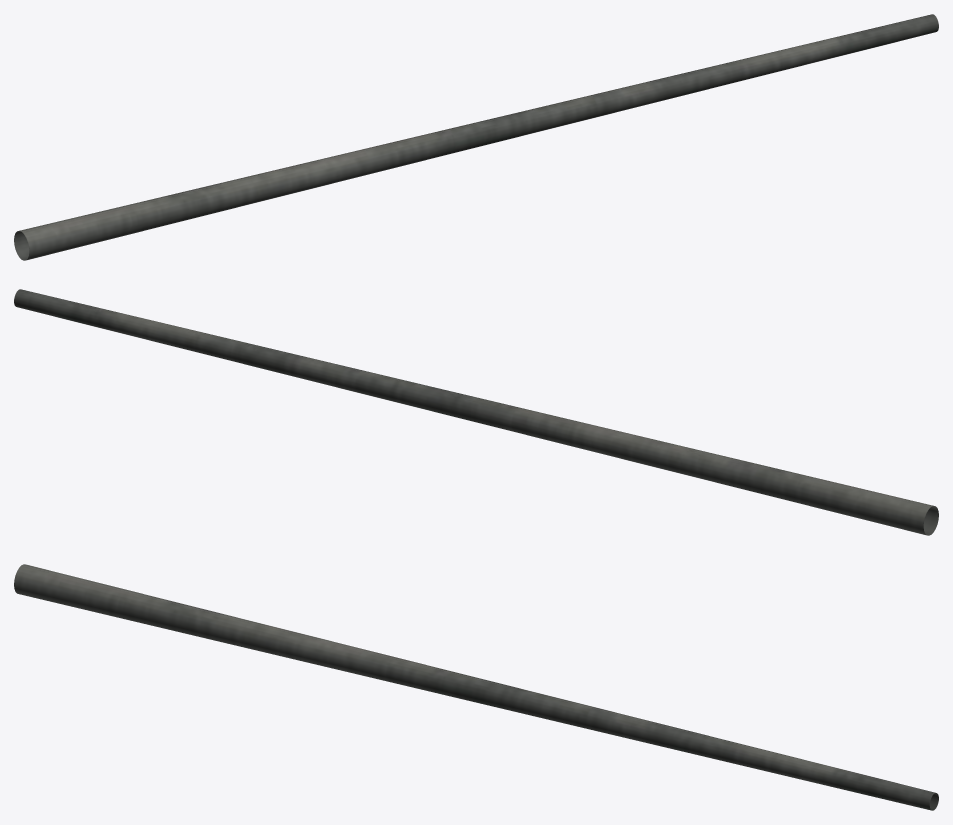
File: armLevel1-v1.glb
3 views of the same model, one above another, from view 1: azimuth 30°, elevation 25°; view 2: azimuth 150°, elevation 25°; view 3: azimuth 330°, elevation 25° (orthographic).
Parts seen in each view (by area): view 1: armLevel1-v1; view 2: armLevel1-v1; view 3: armLevel1-v1.
Part boxes in pixels (x1,y1,x2,y2): armLevel1-v1: (14,14,938,260); armLevel1-v1: (14,289,938,535); armLevel1-v1: (14,564,938,810).
Bounding box in the file's own units: 6.1 × 0.1778 × 0.1778.
1 material, 1 textured.
